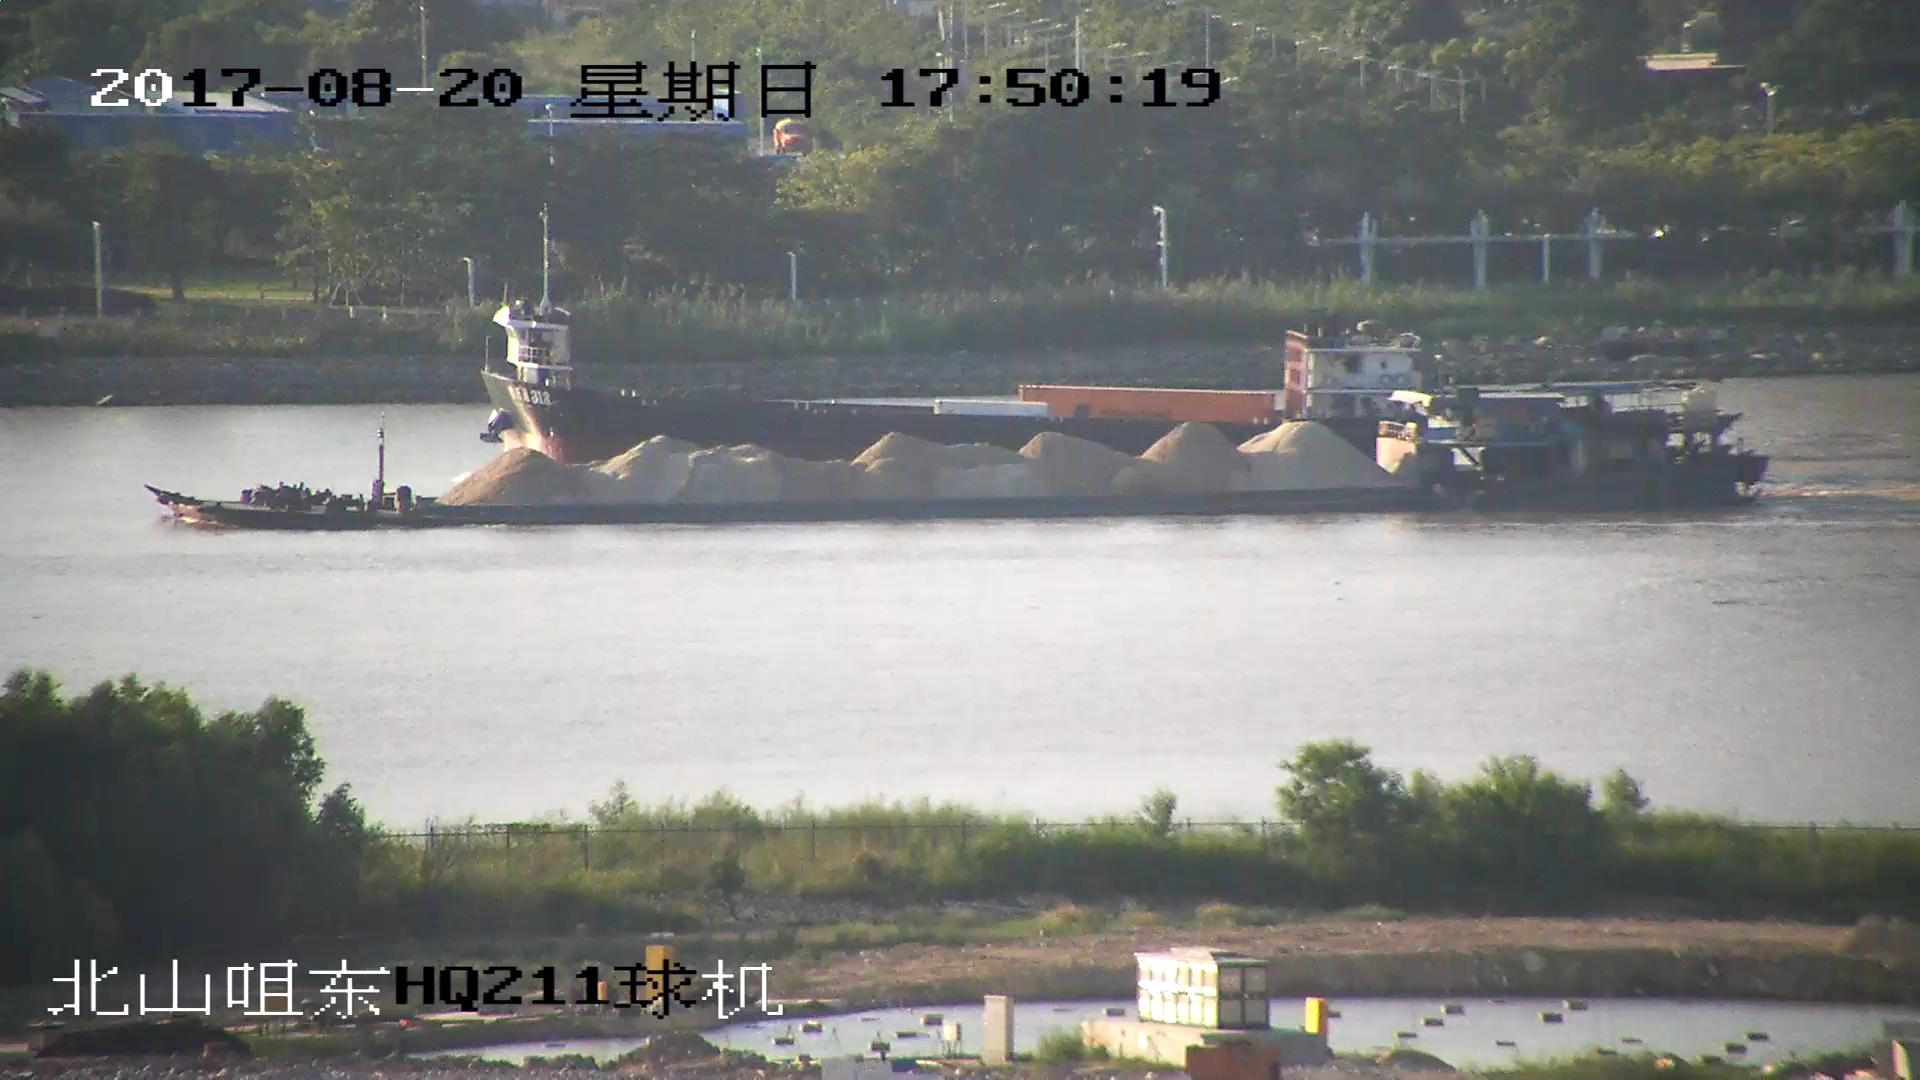general cargo ship: (474, 193, 1453, 459)
ore carrier: (144, 397, 1765, 529)
